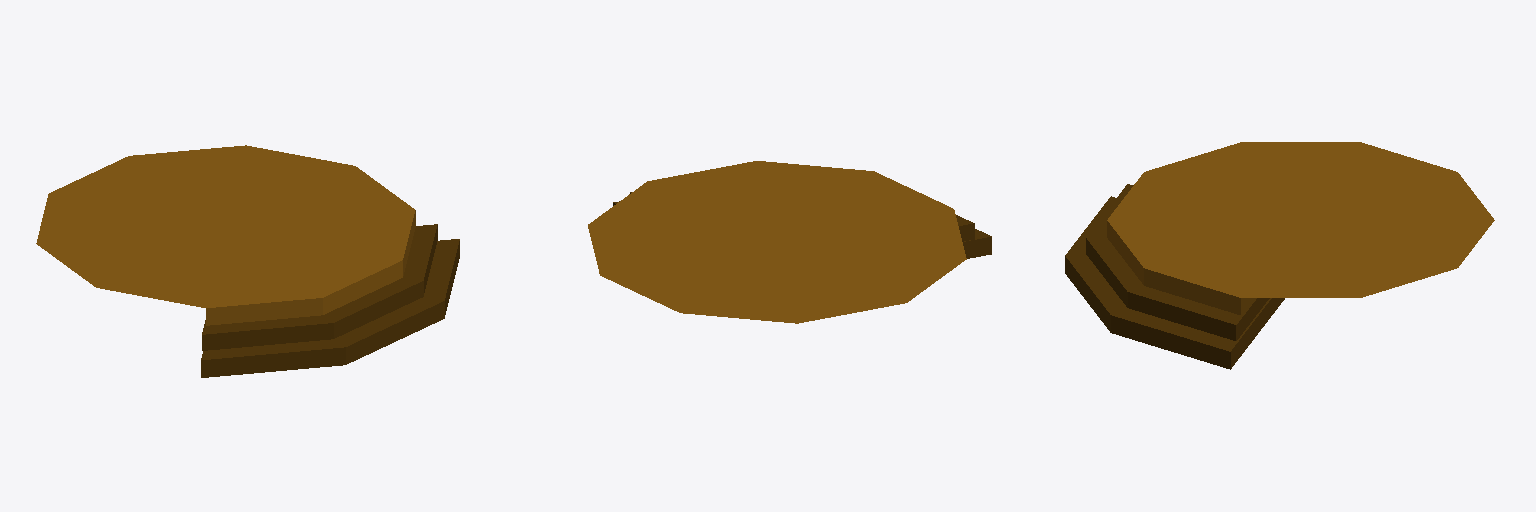
Rendered from kiosque_2.obj.
3 views of the same model, side by side, from view 1: azimuth 30°, elevation 25°; view 2: azimuth 150°, elevation 25°; view 3: azimuth 270°, elevation 25° (orthographic).
Bounding box in the file's own units: 7.38 × 1.03 × 7.66.